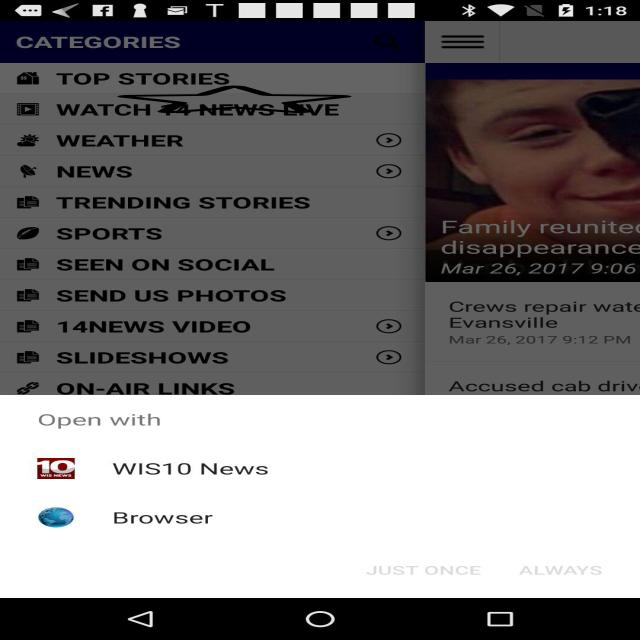forced continuity: (118, 85, 352, 114)
